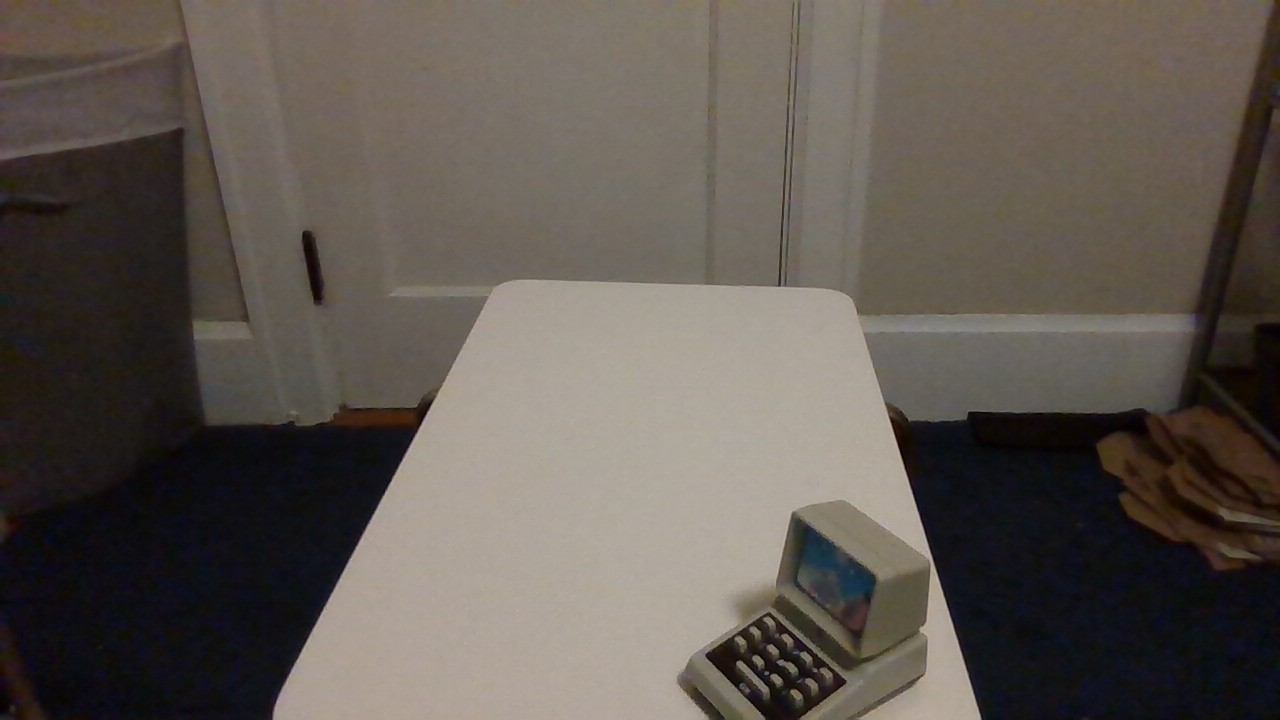Toy: (663, 455, 956, 720)
